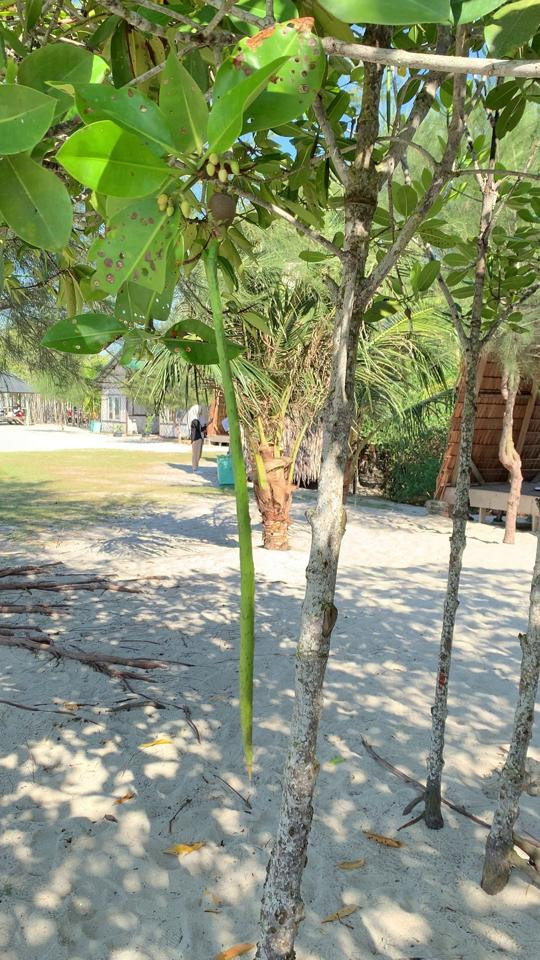mentah: (196, 186, 275, 789)
